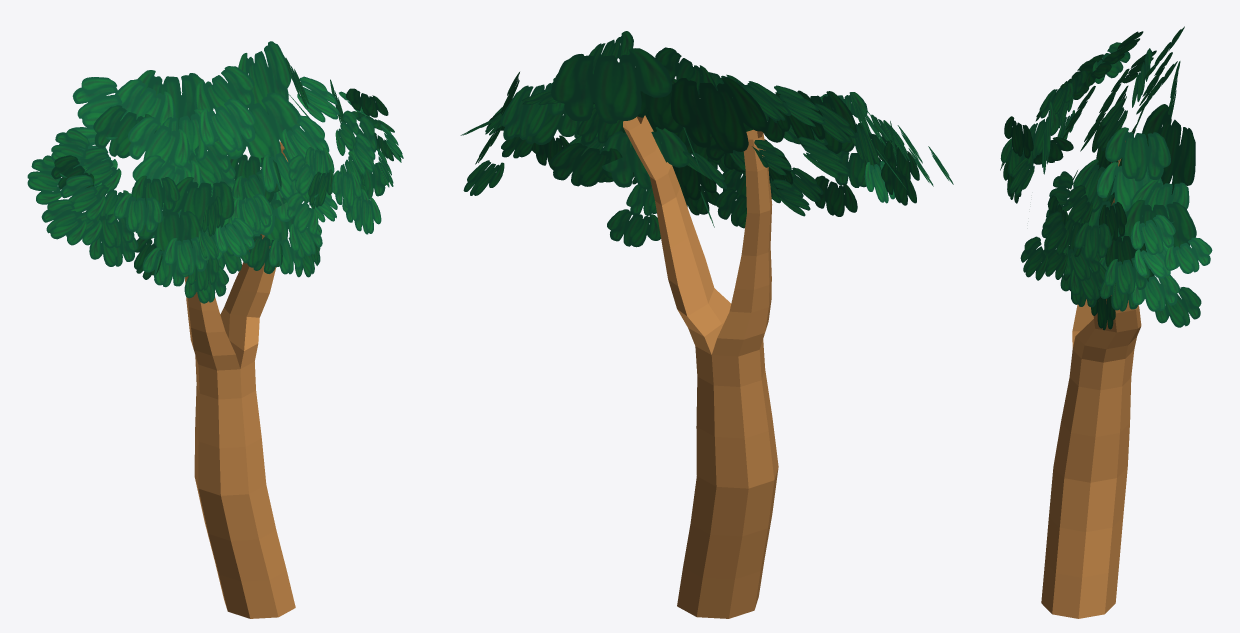
Rendered from tree 01.dae.
3 views of the same model, side by side, from view 1: azimuth 30°, elevation 25°; view 2: azimuth 150°, elevation 25°; view 3: azimuth 270°, elevation 25° (orthographic). The views are drawn at different scales.
Visible parts, largest first — view 1: hoja tree 01.023, Circle, hoja tree 01.001, hoja tree 01.000, hoja tree 01.002, hoja tree 01.009; view 2: Circle, hoja tree 01.023, hoja tree 01.002, hoja tree 01.001, hoja tree 01.000, hoja tree 01.009; view 3: Circle, hoja tree 01.000, hoja tree 01.023, hoja tree 01.001, hoja tree 01.002.
Boxes of the visible parts, x1,y1,x2,y2 form: hoja tree 01.023: [59, 41, 339, 210]; Circle: [185, 141, 295, 618]; hoja tree 01.001: [27, 128, 254, 303]; hoja tree 01.000: [287, 79, 403, 235]; hoja tree 01.002: [144, 160, 337, 277]; hoja tree 01.009: [137, 70, 207, 130]; Circle: [623, 115, 778, 618]; hoja tree 01.023: [521, 31, 857, 186]; hoja tree 01.002: [598, 127, 823, 247]; hoja tree 01.001: [793, 91, 953, 216]; hoja tree 01.000: [460, 72, 709, 195]; hoja tree 01.009: [671, 77, 767, 153]; Circle: [1041, 141, 1141, 618]; hoja tree 01.000: [1020, 171, 1212, 327]; hoja tree 01.023: [1062, 26, 1195, 281]; hoja tree 01.001: [1000, 31, 1156, 203]; hoja tree 01.002: [1060, 124, 1136, 330].
Bounding box in the file's own units: 6.06 × 3.03 × 7.65.
